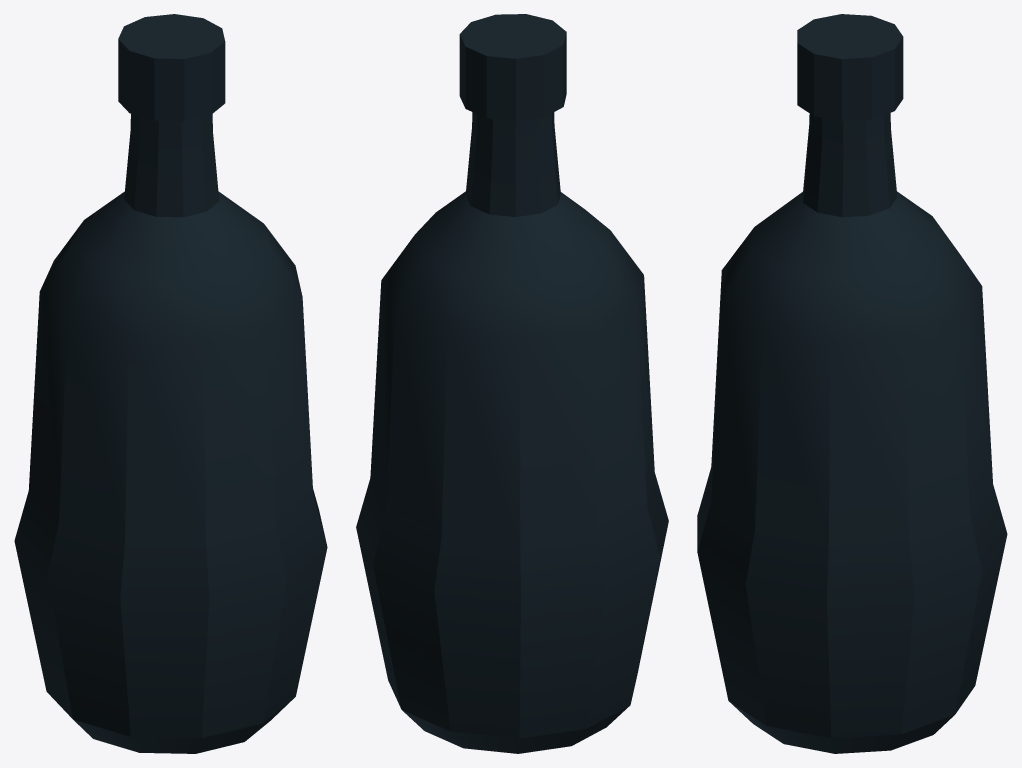
The model's file is 020_Shadow_Bottle_011.fbx.
3 views of the same model, side by side, from view 1: azimuth 30°, elevation 25°; view 2: azimuth 150°, elevation 25°; view 3: azimuth 270°, elevation 25° (orthographic).
Visible parts, largest first — view 1: Sphere.005; view 2: Sphere.005; view 3: Sphere.005.
Part boxes in pixels (x1=…): Sphere.005: x1=14, y1=14, x2=327, y2=753; Sphere.005: x1=356, y1=14, x2=668, y2=753; Sphere.005: x1=697, y1=14, x2=1007, y2=753.
Size of the model in its own units: 121 by 290 by 120.
